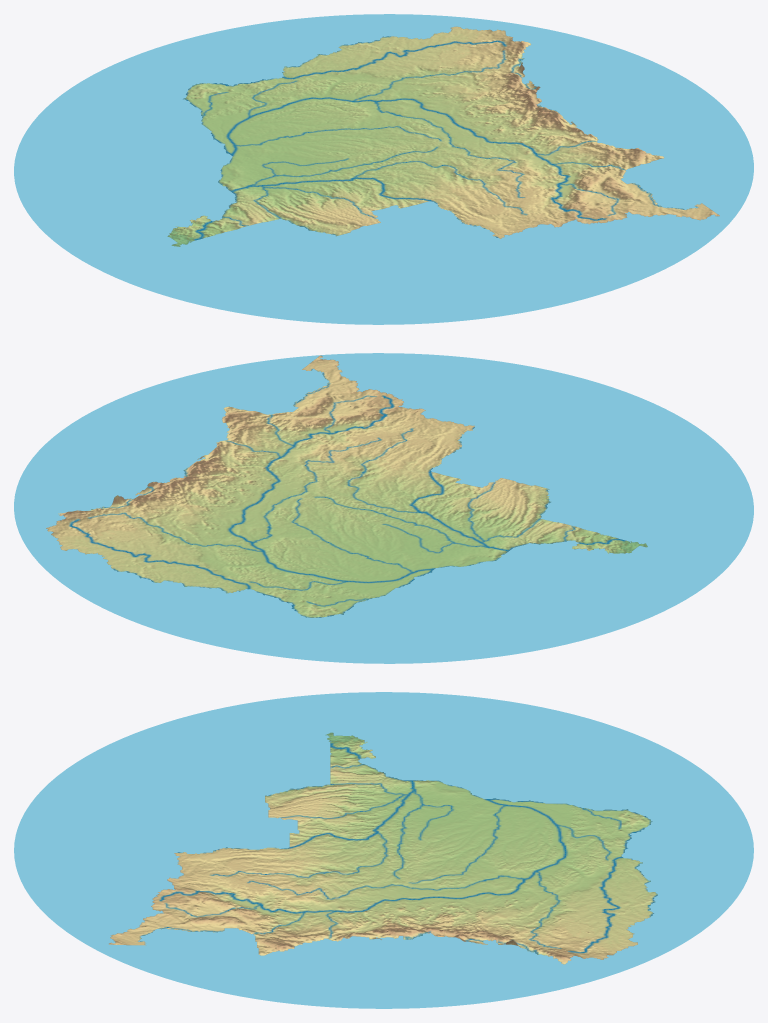
Rendered from COD-terrain.glb.
3 views of the same model, one above another, from view 1: azimuth 30°, elevation 25°; view 2: azimuth 150°, elevation 25°; view 3: azimuth 270°, elevation 25° (orthographic).
Parts seen in each view (by area): view 1: Relevo com hidrografia; view 2: Relevo com hidrografia; view 3: Relevo com hidrografia.
Part boxes in pixels (x1=…): Relevo com hidrografia: x1=14, y1=14, x2=753, y2=324; Relevo com hidrografia: x1=14, y1=353, x2=753, y2=663; Relevo com hidrografia: x1=14, y1=692, x2=753, y2=1008.
Bounding box in the file's own units: 2.17 × 0.0351 × 2.14.
2 materials, 1 textured.
